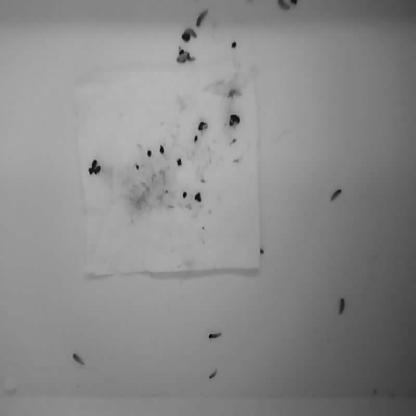PtecticusTenebrifer: (196, 8, 210, 26), (73, 350, 86, 367), (183, 27, 199, 40), (328, 189, 344, 201), (278, 0, 292, 13), (207, 330, 224, 340), (339, 297, 346, 316), (209, 368, 218, 381)
